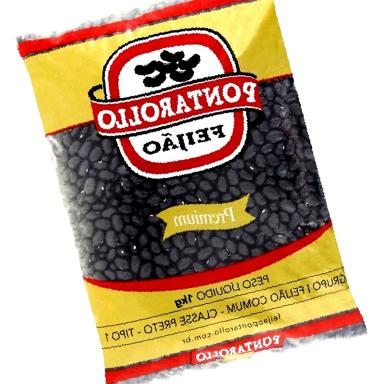beans package: (19, 0, 364, 383)
